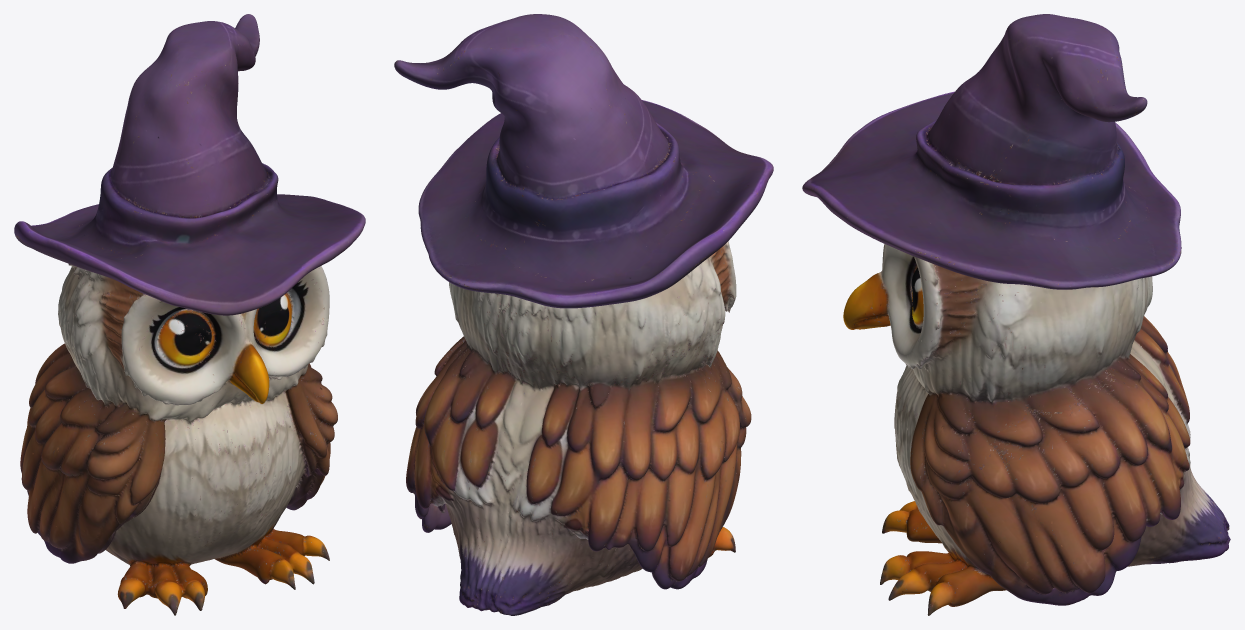
File: soundwave.glb
3 views of the same model, side by side, from view 1: azimuth 30°, elevation 25°; view 2: azimuth 150°, elevation 25°; view 3: azimuth 270°, elevation 25° (orthographic). The views are drawn at different scales.
Bounding box in the file's own units: 39220 × 65534 × 45580.
Materials: 1 (1 with a texture image).
